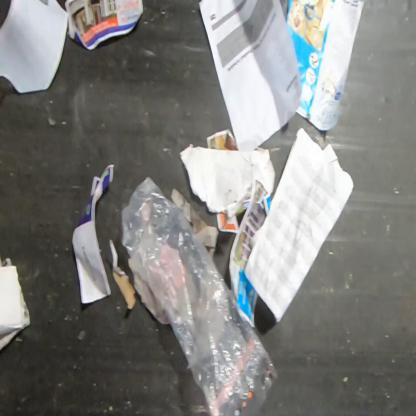cardboard: (178, 142, 277, 219), (170, 187, 219, 255), (108, 238, 137, 311)
soft_plastic: (120, 175, 279, 416)
